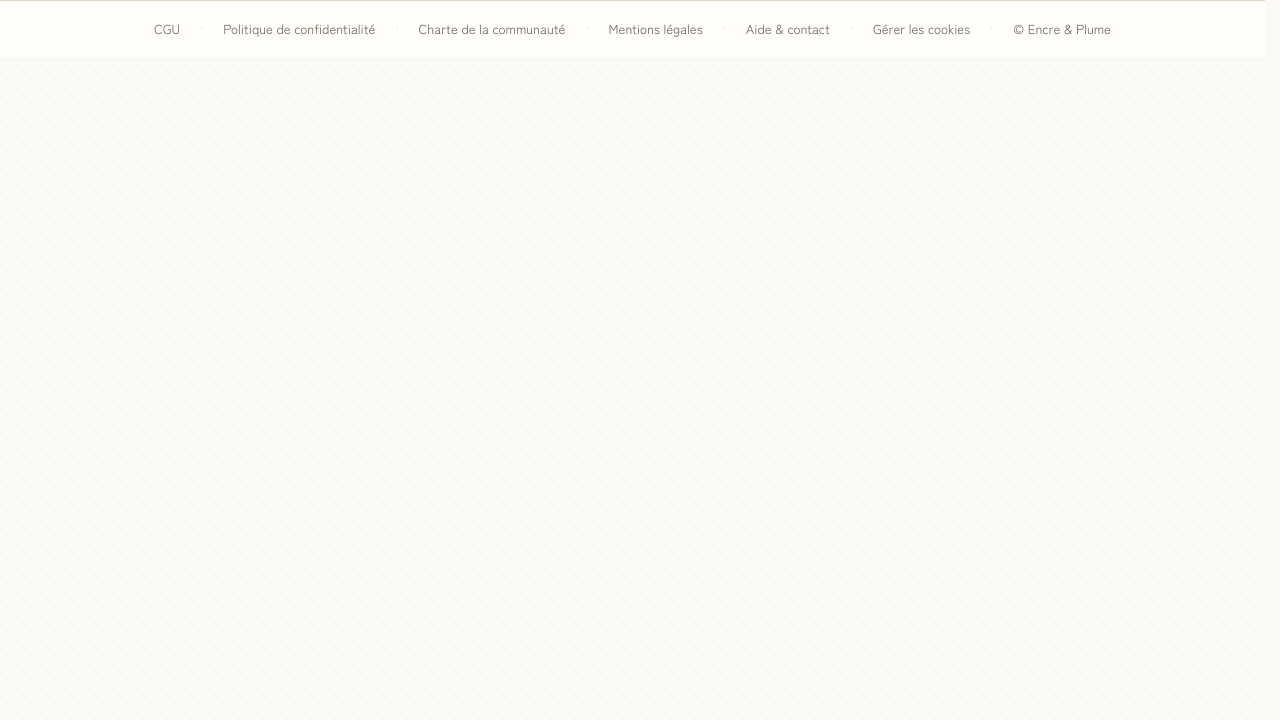
LegalFooter › "Gérer les cookies" reopens the banner after it was dismissed
Click "Gérer les cookies"
Click the button "Gérer les cookies" at (922, 29), box [873,19,970,38]
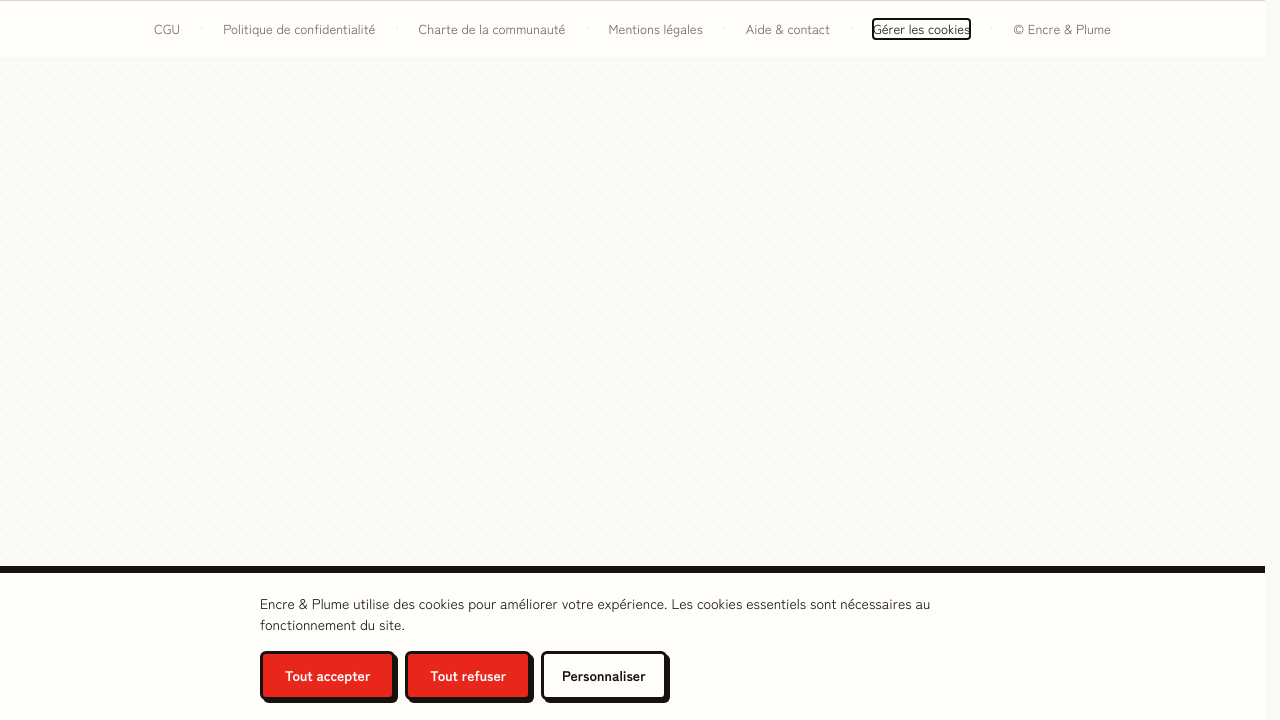
Result: the dialog is shown at [0,570,1279,719]
